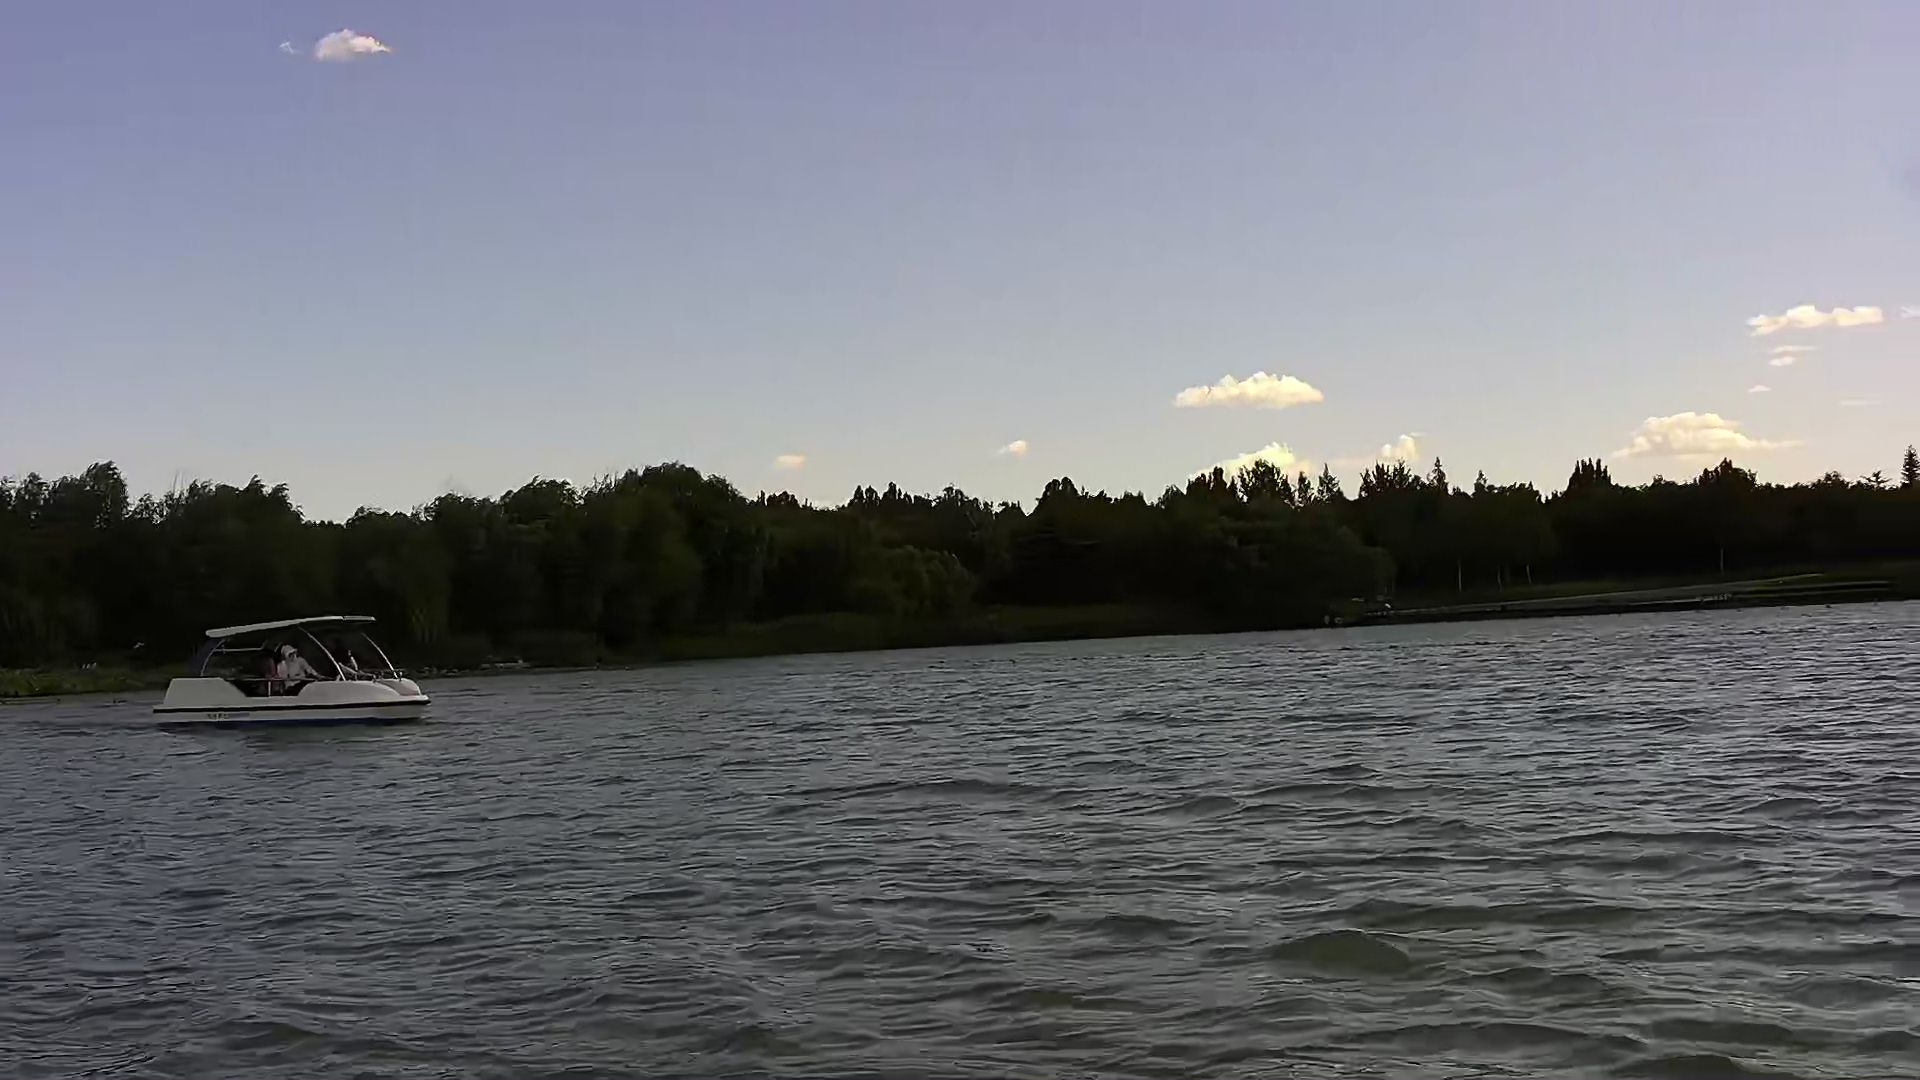boat: (151, 606, 433, 729)
person: (272, 644, 321, 697)
